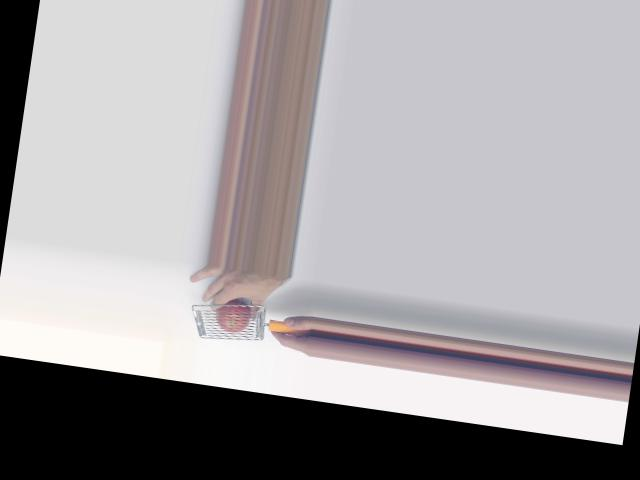tomato: (214, 298, 253, 334)
